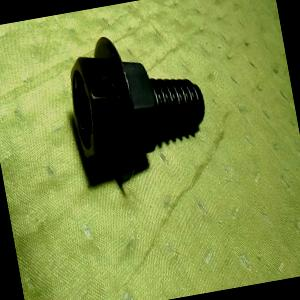parafuso: (60, 20, 217, 194)
